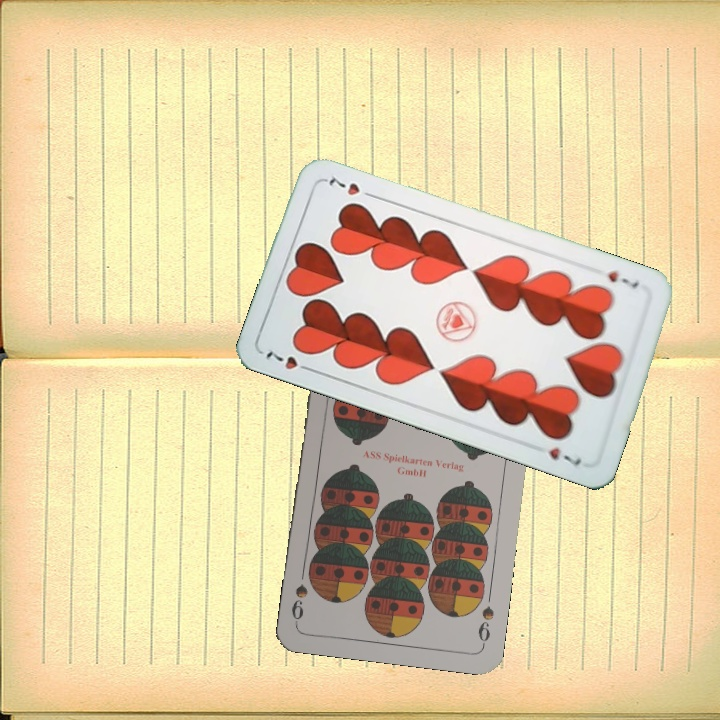H7: (260, 344, 317, 375), (603, 265, 641, 291)
S9: (473, 602, 497, 649)
